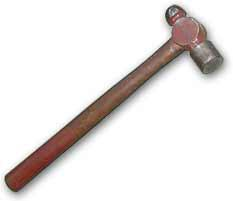hammer: (3, 2, 224, 193)
